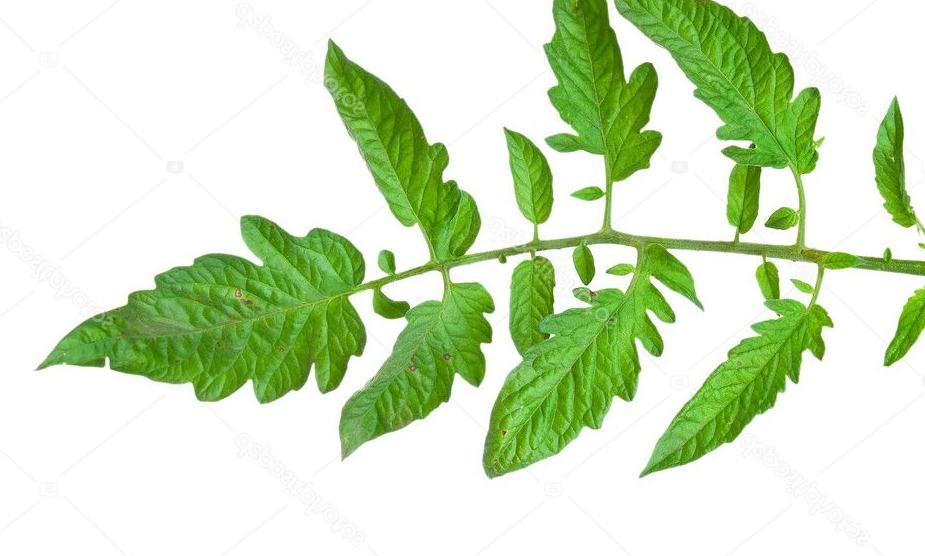Tomato leaf: (29, 209, 376, 410), (467, 248, 694, 487), (634, 272, 834, 484), (612, 0, 820, 192), (306, 39, 462, 252), (329, 265, 504, 450), (550, 0, 650, 191)
